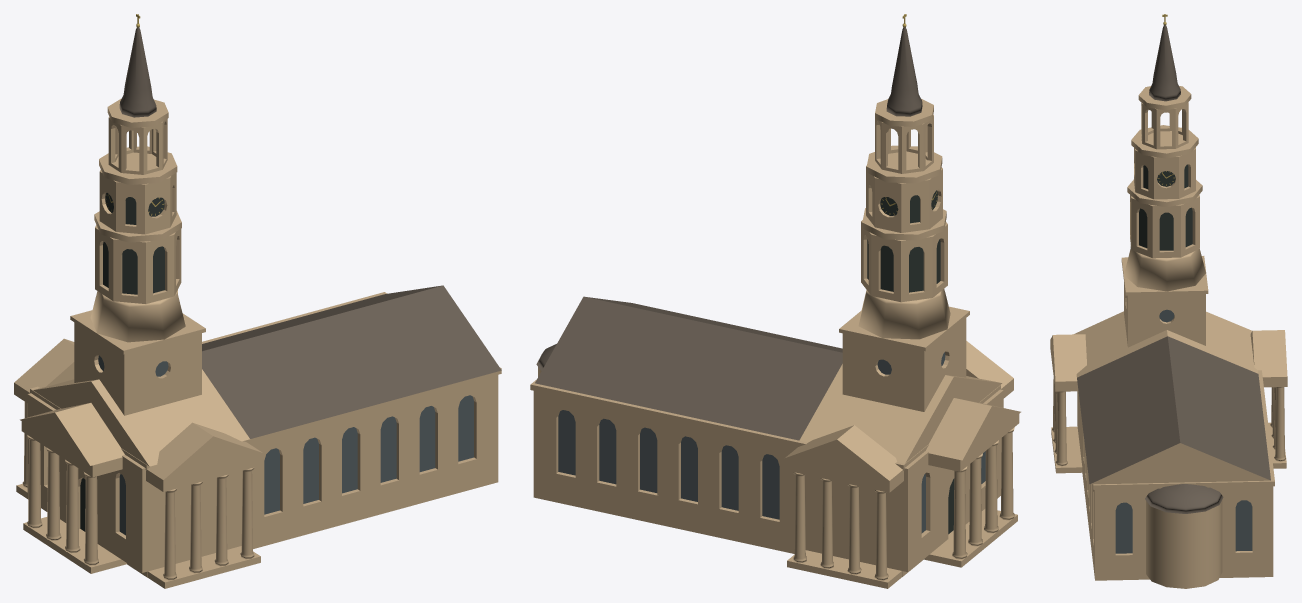
The model's file is st-philips-church-charleston-far.glb.
3 renders of one model, left to right at view 1: azimuth 30°, elevation 25°; view 2: azimuth 150°, elevation 25°; view 3: azimuth 270°, elevation 25°, orthographic. The views are drawn at different scales.
Parts seen in each view (by area): view 1: st-philips-church-charleston-0-plaster, st-philips-church-charleston-0-roof, st-philips-church-charleston-0-glass, st-philips-church-charleston-0-shadow; view 2: st-philips-church-charleston-0-plaster, st-philips-church-charleston-0-roof, st-philips-church-charleston-0-glass, st-philips-church-charleston-0-shadow; view 3: st-philips-church-charleston-0-plaster, st-philips-church-charleston-0-roof, st-philips-church-charleston-0-glass, st-philips-church-charleston-0-shadow.
Part boxes in pixels (box(x1,y1,x2,y2)): st-philips-church-charleston-0-plaster: box(14, 98, 501, 588); st-philips-church-charleston-0-roof: box(119, 27, 501, 438); st-philips-church-charleston-0-glass: box(98, 355, 473, 535); st-philips-church-charleston-0-shadow: box(80, 193, 164, 531); st-philips-church-charleston-0-plaster: box(530, 98, 1020, 588); st-philips-church-charleston-0-roof: box(535, 27, 922, 440); st-philips-church-charleston-0-glass: box(558, 352, 985, 533); st-philips-church-charleston-0-shadow: box(867, 190, 954, 534); st-philips-church-charleston-0-plaster: box(1050, 86, 1287, 588); st-philips-church-charleston-0-roof: box(1077, 25, 1270, 513); st-philips-church-charleston-0-glass: box(1115, 309, 1252, 553); st-philips-church-charleston-0-shadow: box(1139, 164, 1192, 250).
Bounding box in the file's own units: 50.23 × 56 × 27.65.
